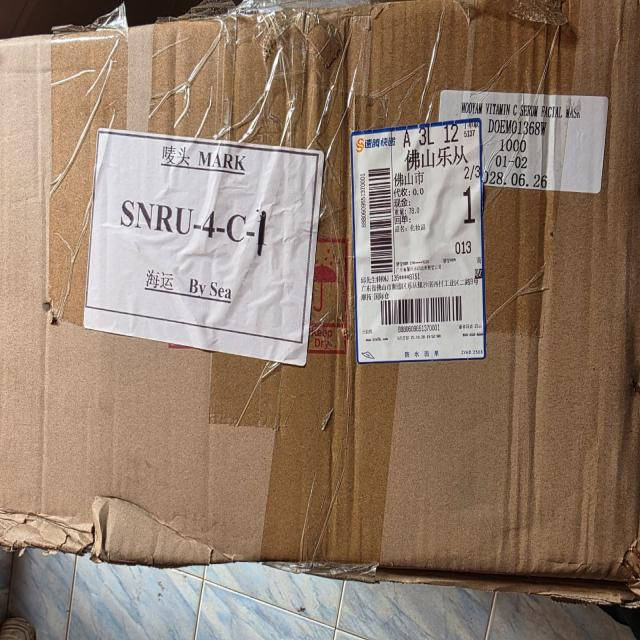carton_box: (0, 0, 640, 627)
export_mark_label: (84, 115, 326, 394), (338, 116, 498, 379), (445, 80, 622, 207)
keep_dry_label: (304, 221, 357, 368)
package_damage: (0, 483, 249, 591), (239, 4, 362, 79), (522, 563, 640, 619)
